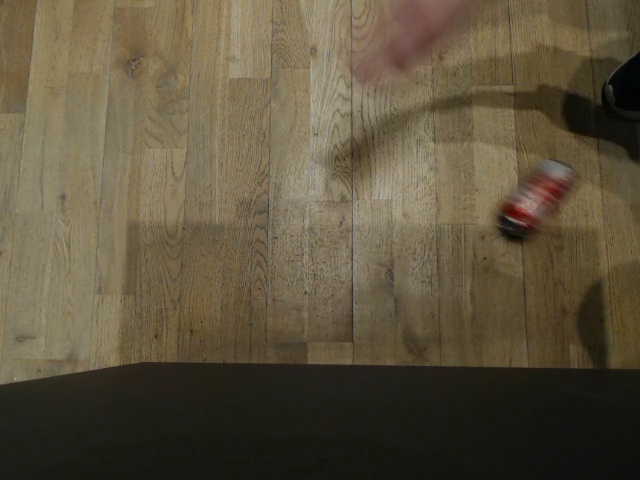cola: (494, 157, 579, 238)
